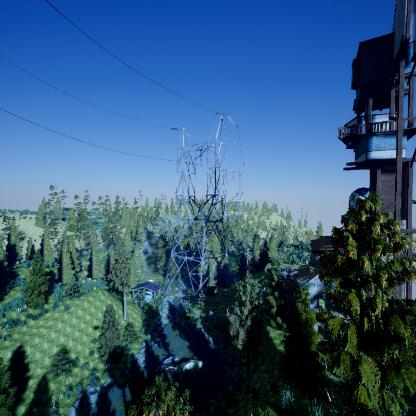tower: (166, 109, 239, 309)
